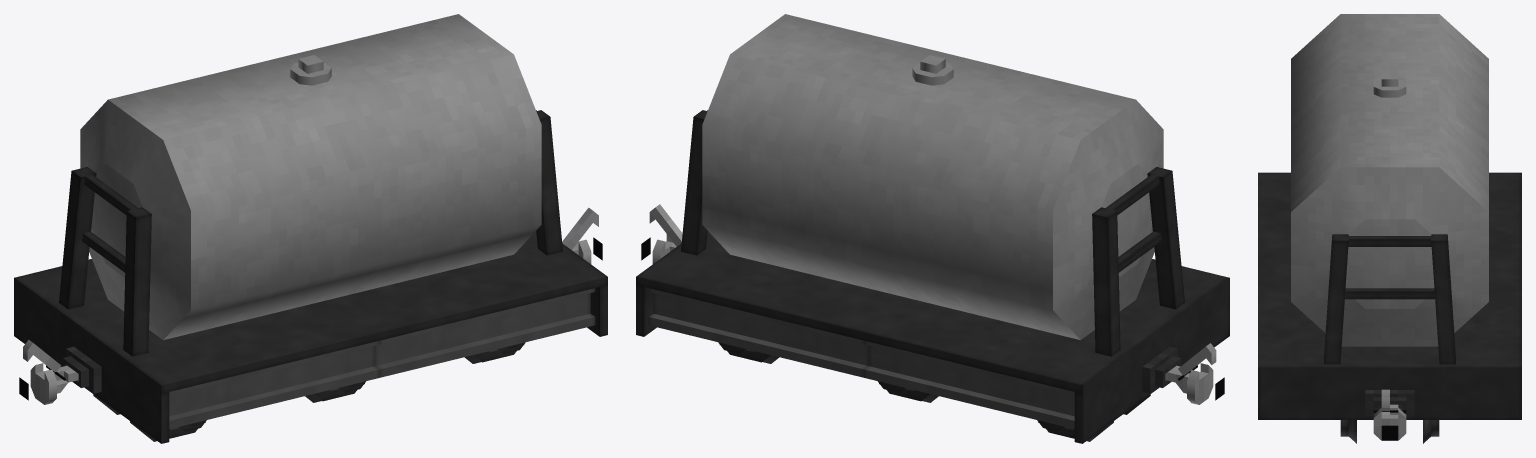
File: tank.obj
The picture shows the model from 3 angles, left to right: view 1: azimuth 30°, elevation 25°; view 2: azimuth 150°, elevation 25°; view 3: azimuth 270°, elevation 25°; orthographic projection. The views are drawn at different scales.
Visible parts, largest first — view 1: tank, FRAME, FRAME.body, COUPLER_ENGAGED_FRONT_1_TOGGLE_LABEL_Uncouple, COUPLED_REAR_2; view 2: tank, FRAME, FRAME.body, COUPLER_ENGAGED_FRONT_1_TOGGLE_LABEL_Uncouple, COUPLED_REAR_2; view 3: tank, FRAME, FRAME.body, COUPLER_ENGAGED_REAR_2_TOGGLE_LABEL_Uncouple, FRAME_WHEEL_3.
Boxes of the visible parts, x1,y1,x2,y2 form: tank: [80, 14, 541, 340]; FRAME: [14, 231, 607, 443]; FRAME.body: [59, 110, 562, 356]; COUPLER_ENGAGED_FRONT_1_TOGGLE_LABEL_Uncouple: [19, 346, 101, 404]; COUPLED_REAR_2: [562, 207, 598, 249]; tank: [702, 14, 1163, 340]; FRAME: [636, 231, 1229, 443]; FRAME.body: [681, 110, 1184, 356]; COUPLER_ENGAGED_FRONT_1_TOGGLE_LABEL_Uncouple: [1142, 346, 1224, 404]; COUPLED_REAR_2: [649, 204, 682, 246]; tank: [1291, 14, 1488, 346]; FRAME: [1258, 172, 1521, 419]; FRAME.body: [1324, 234, 1455, 364]; COUPLER_ENGAGED_REAR_2_TOGGLE_LABEL_Uncouple: [1365, 390, 1414, 440]; FRAME_WHEEL_3: [1340, 420, 1439, 443].
Bounding box in the file's own units: 4.5 × 2.44 × 2.
Materials: 3 (3 with a texture image).
